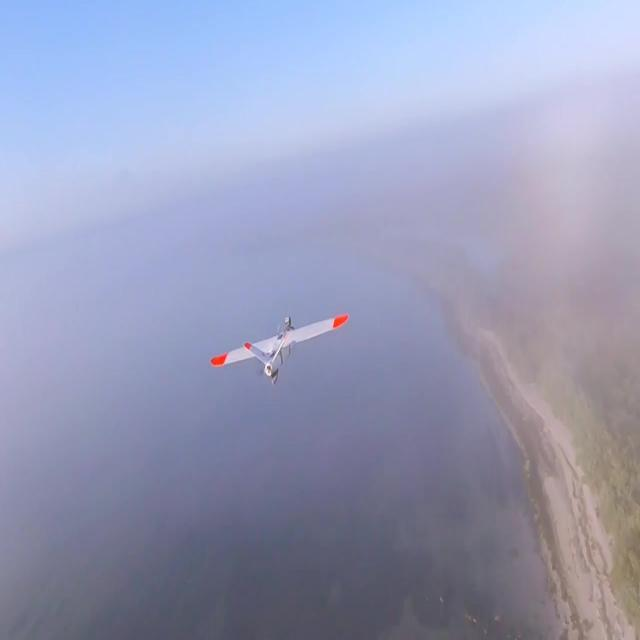iha: (213, 349, 346, 351)
